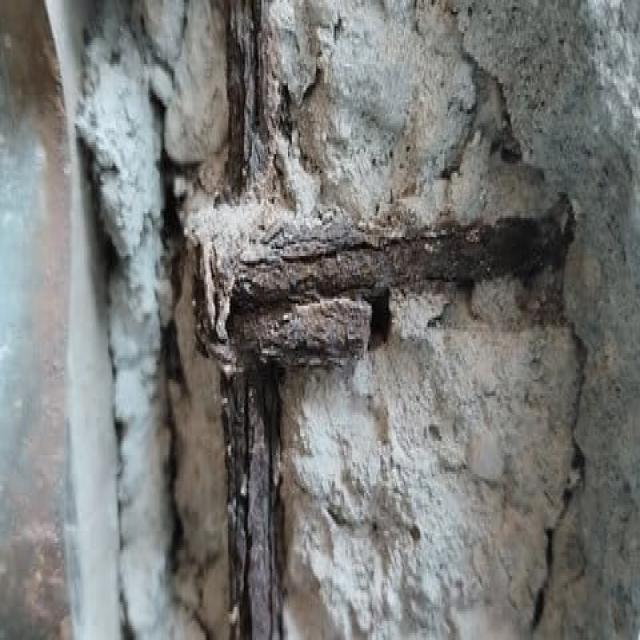Spalling: (75, 0, 589, 639)
corrosion: (191, 194, 573, 639)
